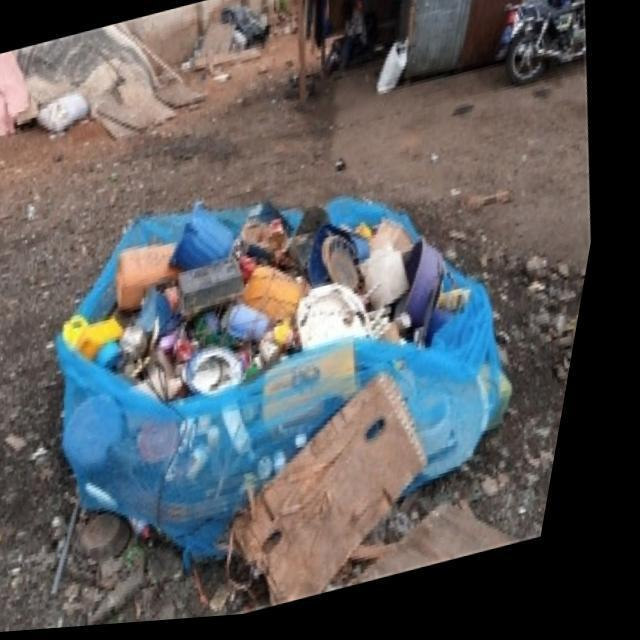Garbage: (74, 205, 481, 405)
Plastic: (309, 288, 403, 355), (414, 246, 459, 353), (180, 206, 242, 274), (318, 228, 372, 297), (75, 316, 136, 362)
